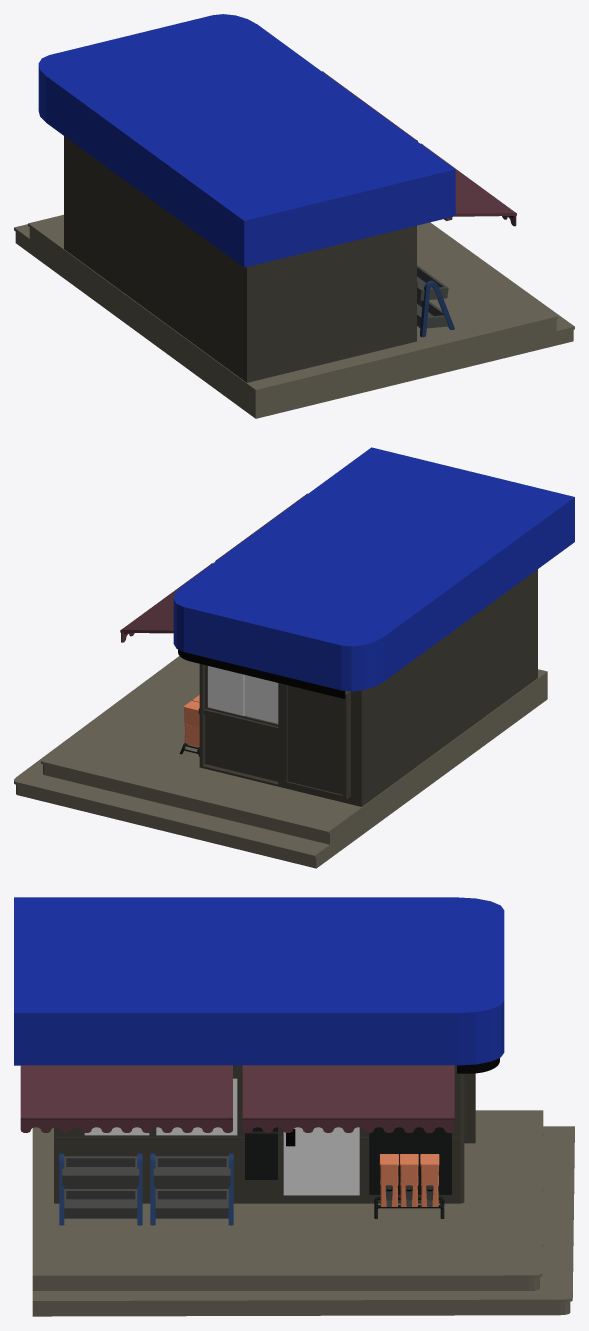
Rendered from Store.fbx.
3 renders of one model, top to bottom at view 1: azimuth 30°, elevation 25°; view 2: azimuth 150°, elevation 25°; view 3: azimuth 270°, elevation 25°, orthographic. The views are drawn at different scales.
Visible parts, largest first — view 1: Cube, Plane.004, Cube.001, Cube.016, Cube.019, Cube.018; view 2: Cube, Plane.004, Cube.010, Cube.009, Cube.015, Cube.002, Cube.032; view 3: Cube, Plane.004, Cube.001, Cube.002, Cube.006, Cube.005, Cube.019, Cube.023, Cube.018, Cube.022, Cube.008, Cube.025 (+3 smaller).
Part boxes in pixels (box(x1,y1,x2,y2)): Cube: box(38, 14, 455, 382); Plane.004: box(14, 214, 574, 418); Cube.001: box(421, 143, 516, 226); Cube.016: box(420, 280, 454, 337); Cube.019: box(417, 265, 448, 300); Cube.018: box(417, 299, 448, 328); Cube: box(173, 447, 574, 806); Plane.004: box(14, 656, 547, 868); Cube.010: box(208, 666, 244, 715); Cube.009: box(244, 674, 278, 723); Cube.015: box(178, 649, 345, 698); Cube.002: box(120, 563, 212, 642); Cube.032: box(183, 701, 199, 746); Cube: box(14, 897, 504, 1203); Plane.004: box(32, 1110, 574, 1316); Cube.001: box(20, 1065, 232, 1132); Cube.002: box(242, 1065, 454, 1132); Cube.006: box(283, 1127, 359, 1195); Cube.005: box(369, 1127, 451, 1194); Cube.019: box(62, 1156, 139, 1186); Cube.023: box(153, 1156, 230, 1186); Cube.018: box(62, 1189, 139, 1218); Cube.022: box(153, 1189, 230, 1218); Cube.008: box(245, 1132, 277, 1179); Cube.025: box(399, 1154, 418, 1206).
Size of the model in its own units: 797 by 469 by 1018.
